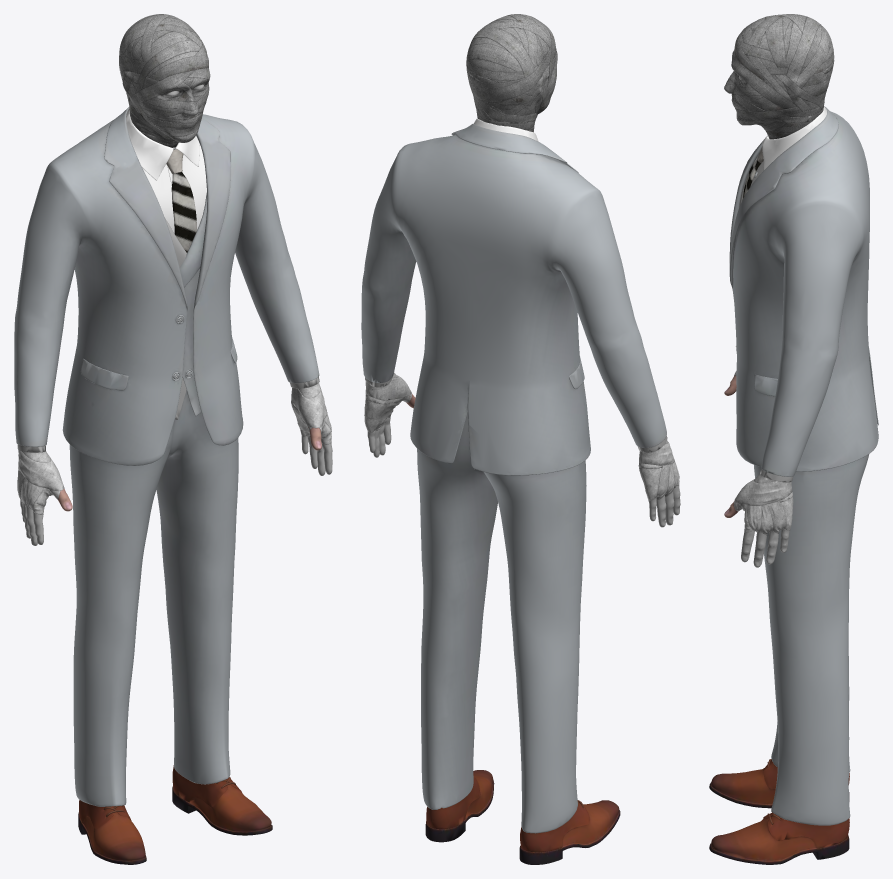
The model's file is Login.glb.
The picture shows the model from 3 angles, left to right: view 1: azimuth 30°, elevation 25°; view 2: azimuth 150°, elevation 25°; view 3: azimuth 270°, elevation 25°; orthographic projection.
Parts seen in each view (by area): view 1: Arthur (×2); view 2: Arthur (×2); view 3: Arthur (×2).
Boxes of the visible parts, x1,y1,x2,y2 form: Arthur (×2): (14,14,332,864); Arthur (×2): (361,14,680,864); Arthur (×2): (709,14,878,864).
Bounding box in the file's own units: 0.6586 × 1.68 × 0.319.
Materials: 2 (2 with a texture image).
